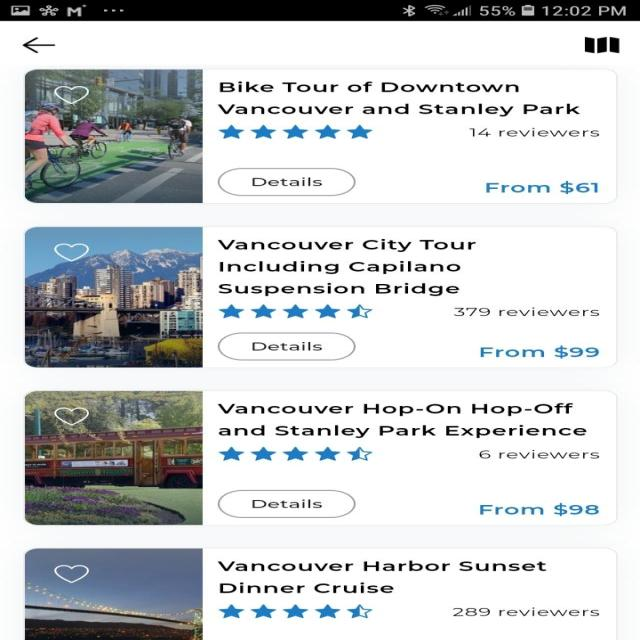Icon: (218, 446, 372, 461), (218, 304, 372, 319), (218, 604, 372, 618), (218, 125, 372, 138), (53, 242, 89, 262), (53, 564, 89, 583), (53, 407, 90, 425), (583, 36, 619, 54), (54, 86, 88, 104), (22, 37, 55, 54)
Image: (25, 226, 203, 368), (24, 391, 203, 525), (25, 70, 203, 204), (24, 548, 203, 640)
Text: (217, 238, 476, 296), (218, 402, 586, 438), (216, 82, 580, 117), (217, 560, 547, 593), (479, 502, 599, 516), (479, 345, 599, 359), (484, 181, 598, 194), (468, 127, 600, 137), (452, 607, 598, 616), (454, 307, 598, 316), (479, 449, 598, 459)
TextButton: (217, 489, 356, 518), (217, 332, 356, 361), (217, 167, 356, 196)
